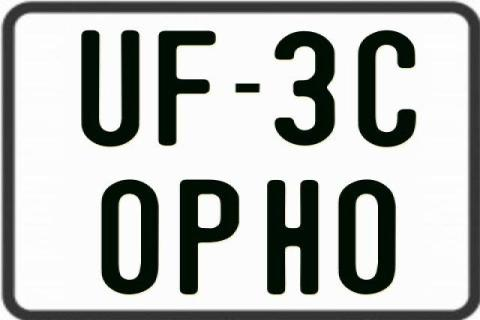0: (273, 30, 334, 148), (99, 178, 157, 298), (337, 177, 396, 293)
C: (357, 28, 420, 148)
F: (158, 30, 219, 146)
H: (267, 180, 323, 298)
P: (177, 180, 242, 298)
U: (81, 31, 139, 147)
